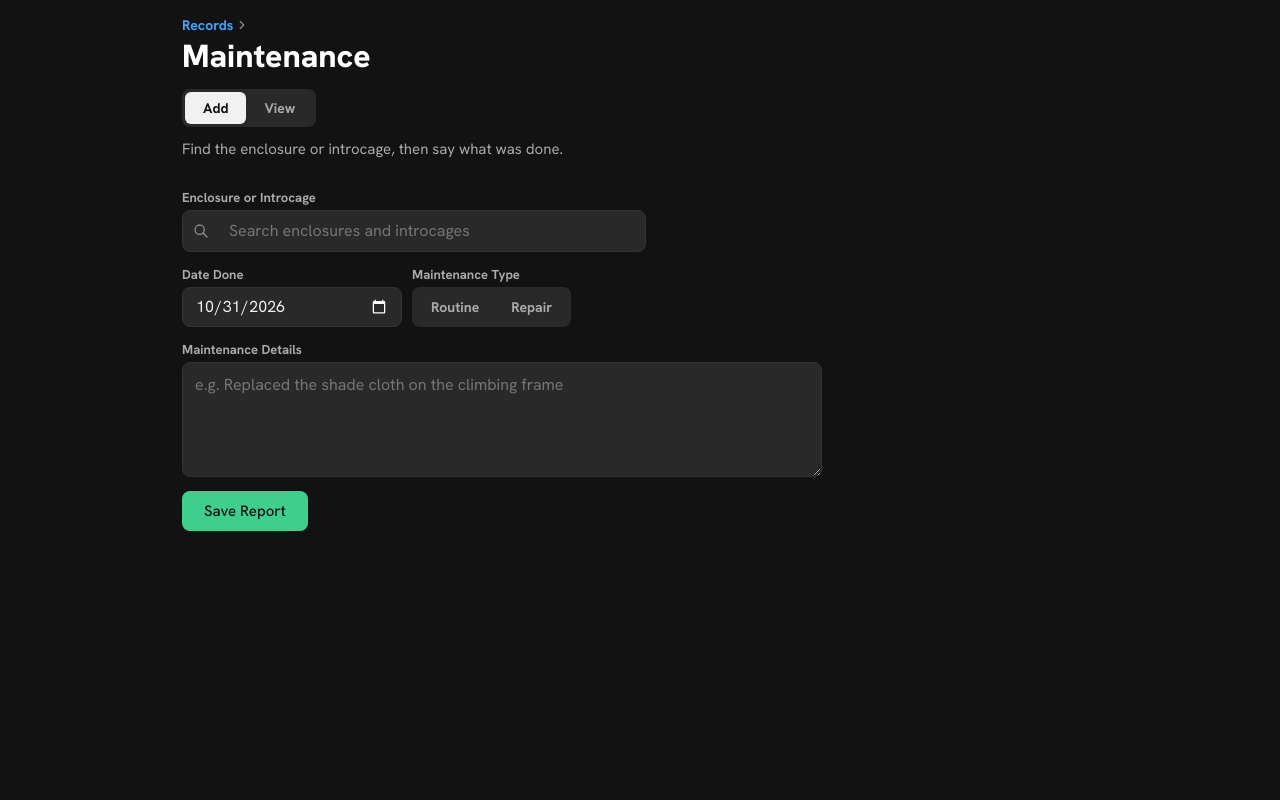
View › Edit and Delete: their own only (admins: anyone's); Delete asks first, in red
Click the tab "View" at (280, 108), box x1=246 y1=92 x2=313 y2=124
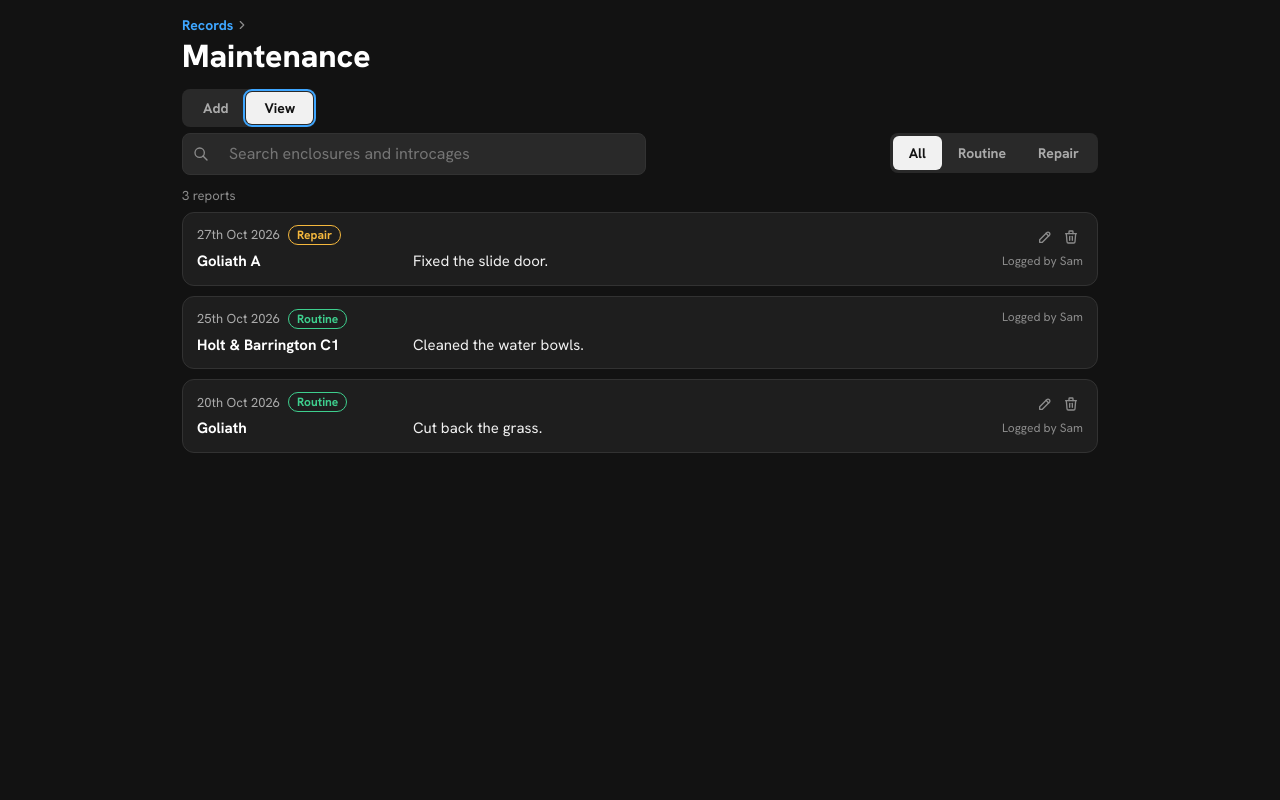
Click the button named "Edit the report from 27th Oct 2026" at (1045, 237), box x1=1033 y1=225 x2=1057 y2=249
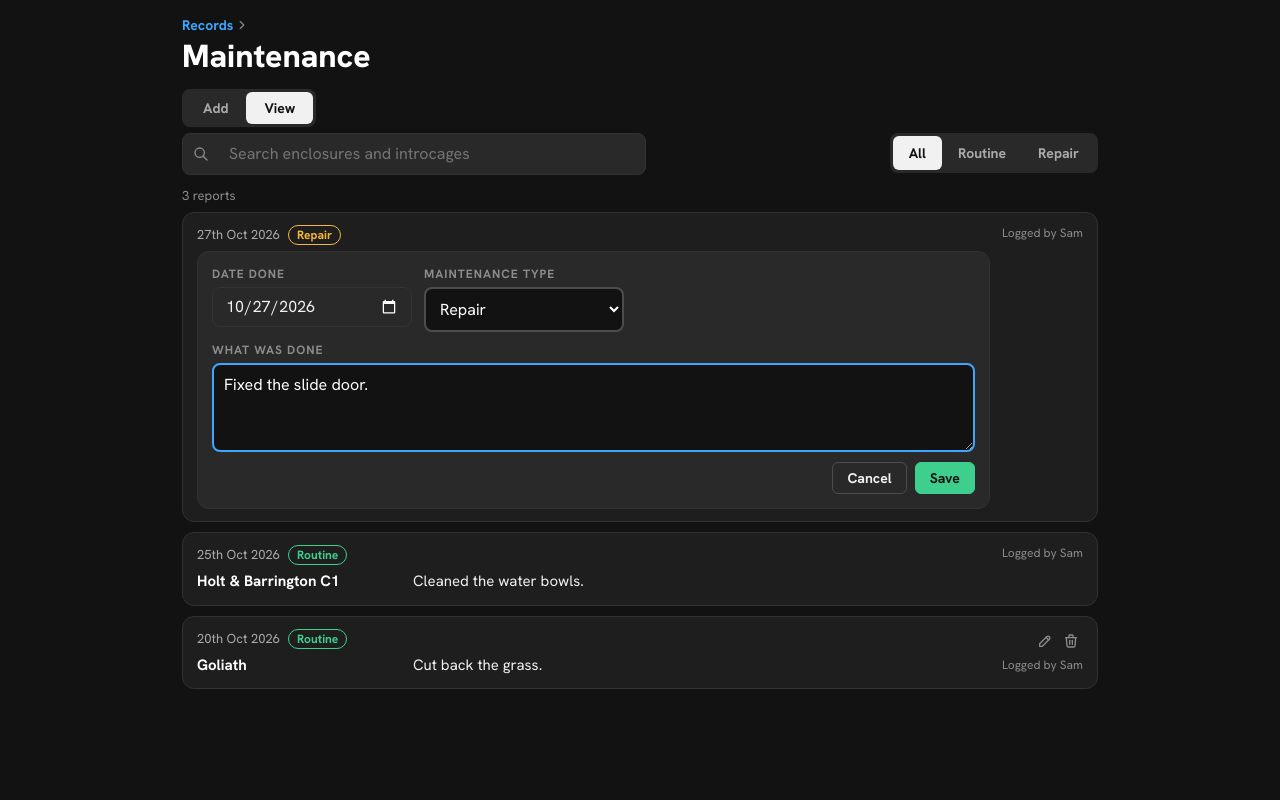
Replace the text in the text box labelled "What was done" with "Fixed the slide door and the lock." at (593, 407), box x1=212 y1=363 x2=975 y2=452
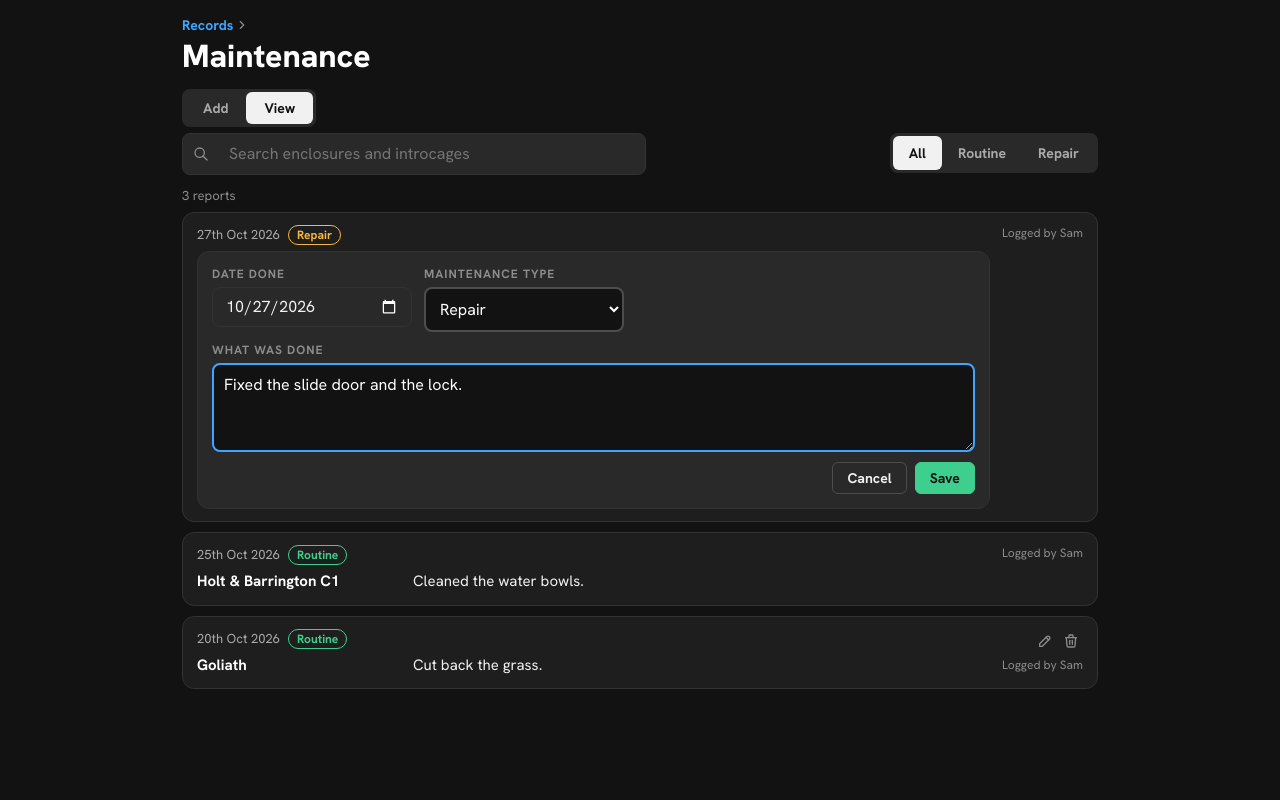
Click the button "Save" at (945, 478), box x1=915 y1=462 x2=975 y2=494
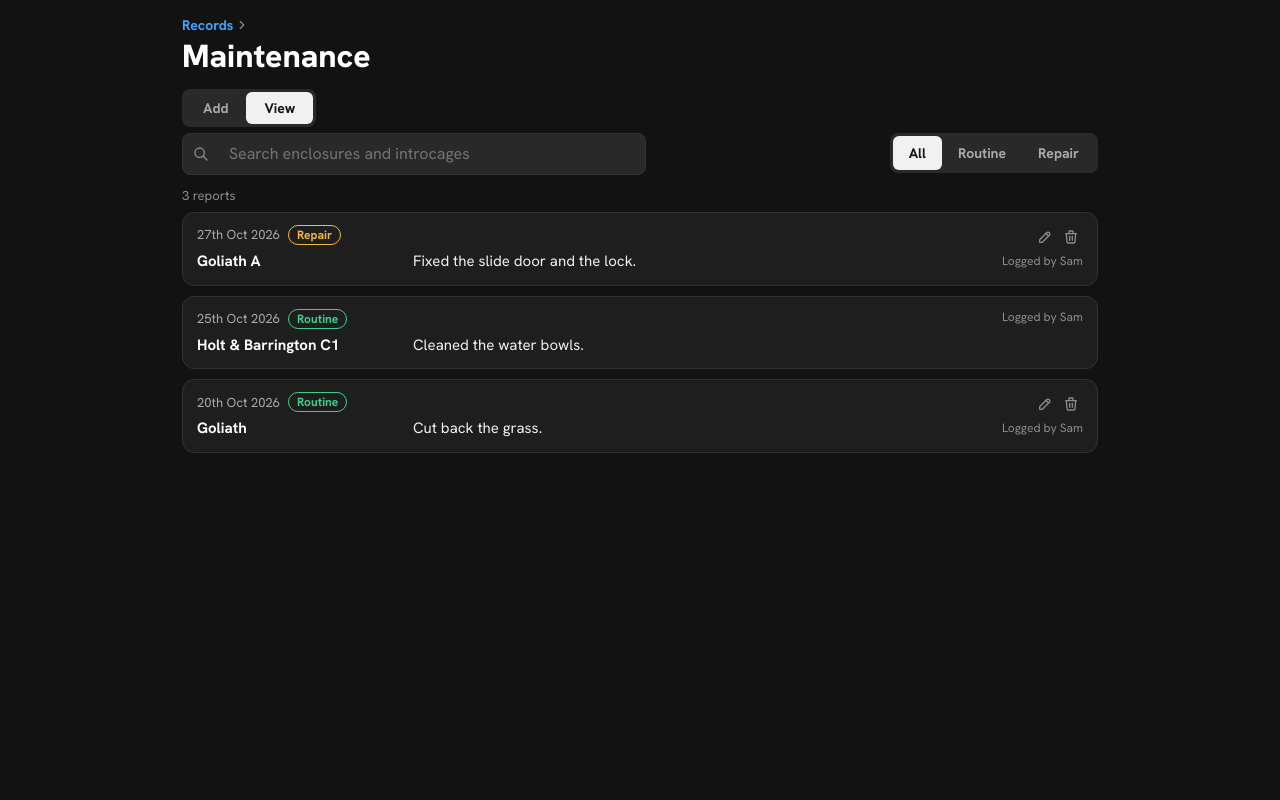
Result: the text "Fixed the slide door and the lock." is shown at x1=413 y1=251 x2=636 y2=271
Result: the link "Goliath A" is shown at x1=197 y1=251 x2=261 y2=271
Click the button named "Delete the report from 27th Oct 2026" at (1071, 237), box x1=1059 y1=225 x2=1083 y2=249
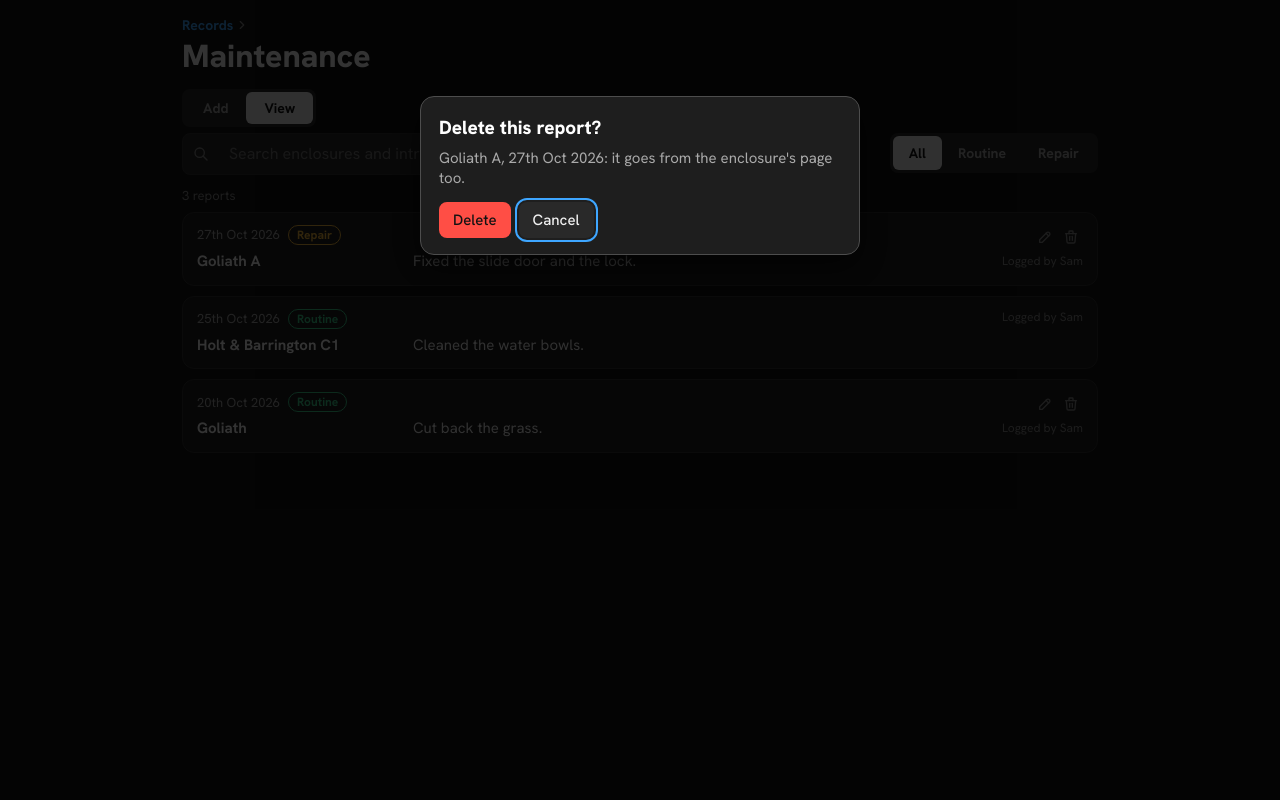
Click the button "Delete" at (475, 220), box x1=439 y1=202 x2=511 y2=238
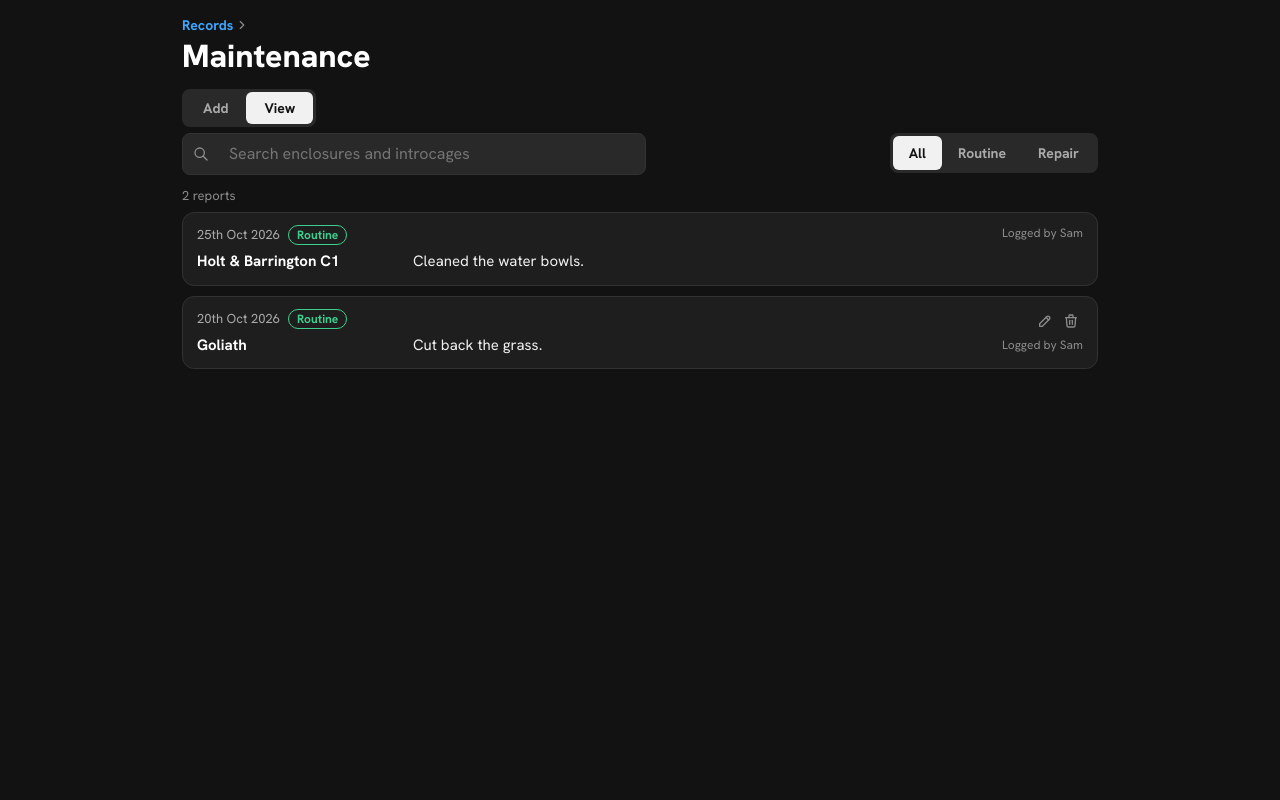
Result: the text "2 reports" is shown at x1=182 y1=187 x2=236 y2=204
